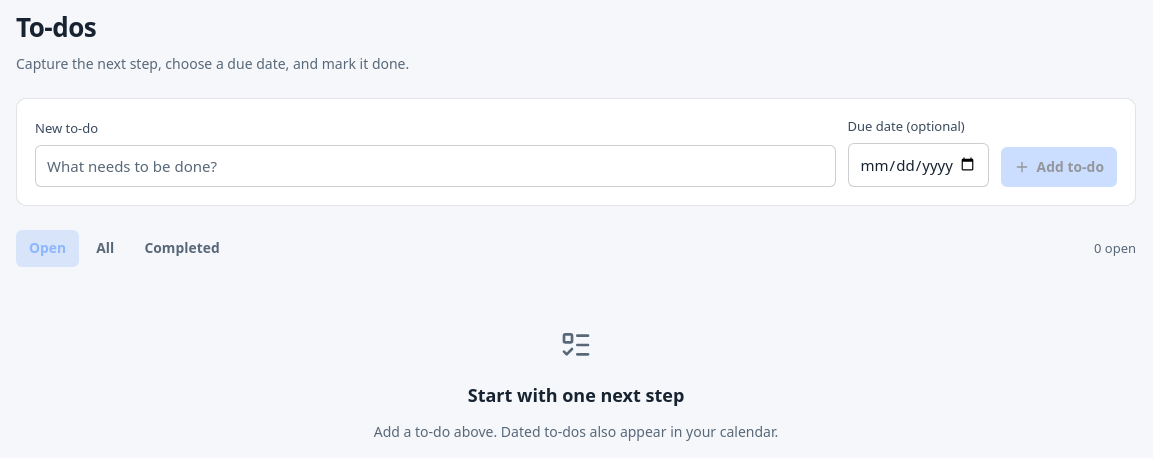
Test: organizer workspace › reveals a newly created task when the Completed filter was selected
Click the button "Completed": x=182, y=248 [131,230,233,267]
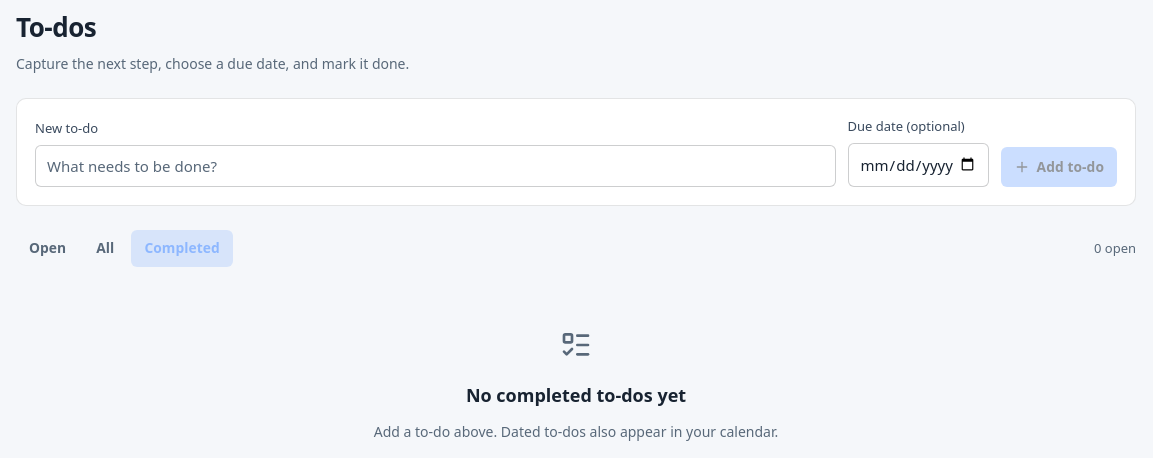
In the field labelled "New to-do": x=435, y=166 [35,144,836,187], type "Visible new task"
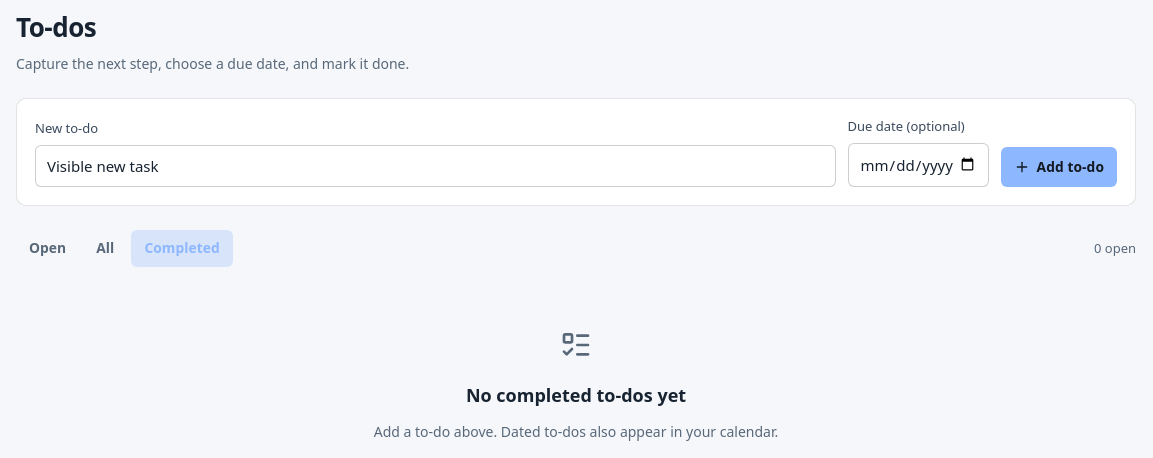
Click the button "Add to-do": x=1059, y=167 [1000,147,1117,187]
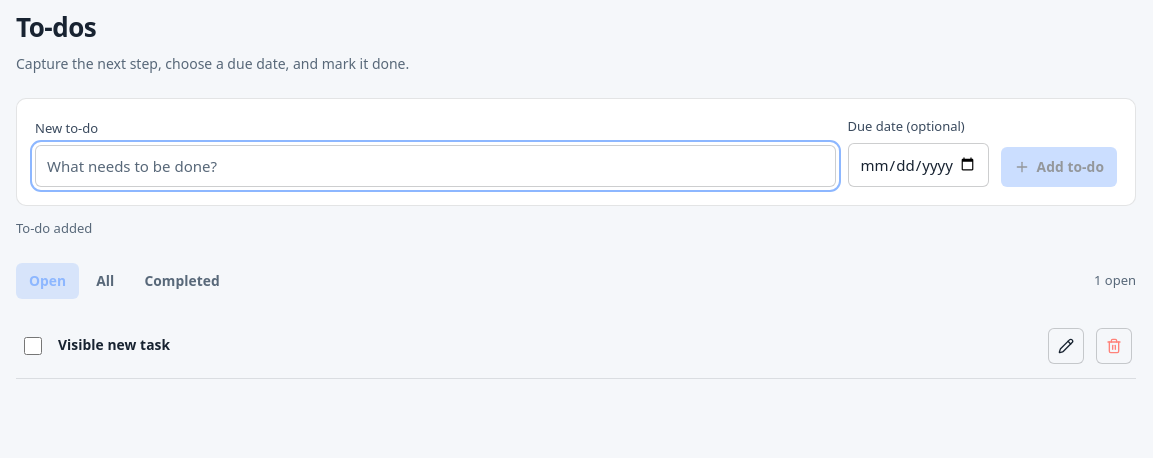
Now the button "Visible new task" is shown, box [57,328,1036,364]
Now the text "To-do added" is shown, box [16,219,92,237]
